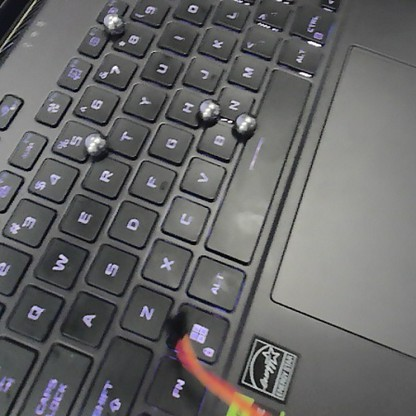ironball: (79, 126, 110, 163), (231, 108, 261, 140), (194, 96, 223, 125), (100, 11, 127, 35)
